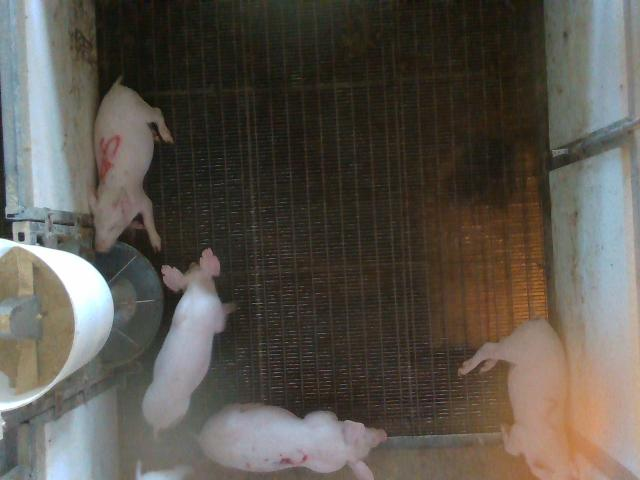pig-2: (459, 319, 572, 479)
pig-3: (198, 404, 386, 479)
pig-5: (90, 78, 172, 252)
